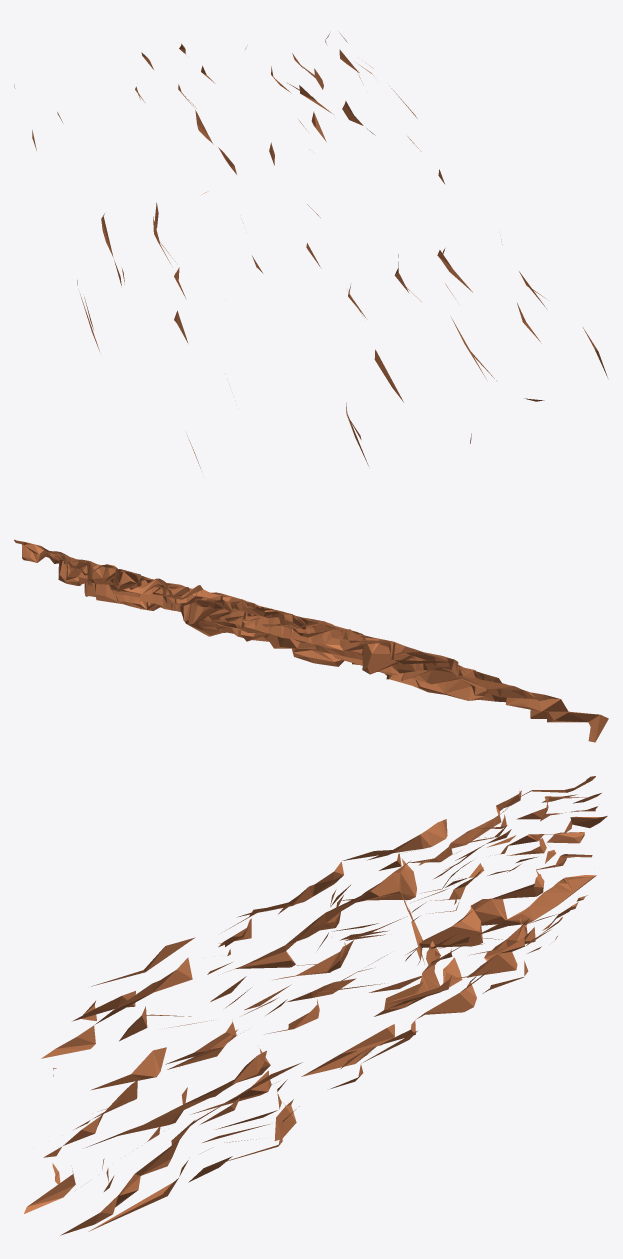
3 renders of one model, top to bottom at view 1: azimuth 30°, elevation 25°; view 2: azimuth 150°, elevation 25°; view 3: azimuth 270°, elevation 25°, orthographic. The views are drawn at different scales.
Visible parts, largest first — view 1: geometry_0; view 2: geometry_0; view 3: geometry_0.
Boxes of the visible parts, left/top/right/bottom form: geometry_0: left=14, top=33, right=608, bottom=468; geometry_0: left=14, top=539, right=608, bottom=742; geometry_0: left=24, top=776, right=607, bottom=1235.
Bounding box in the file's own units: 0.5425 × 0.295 × 0.5189.
